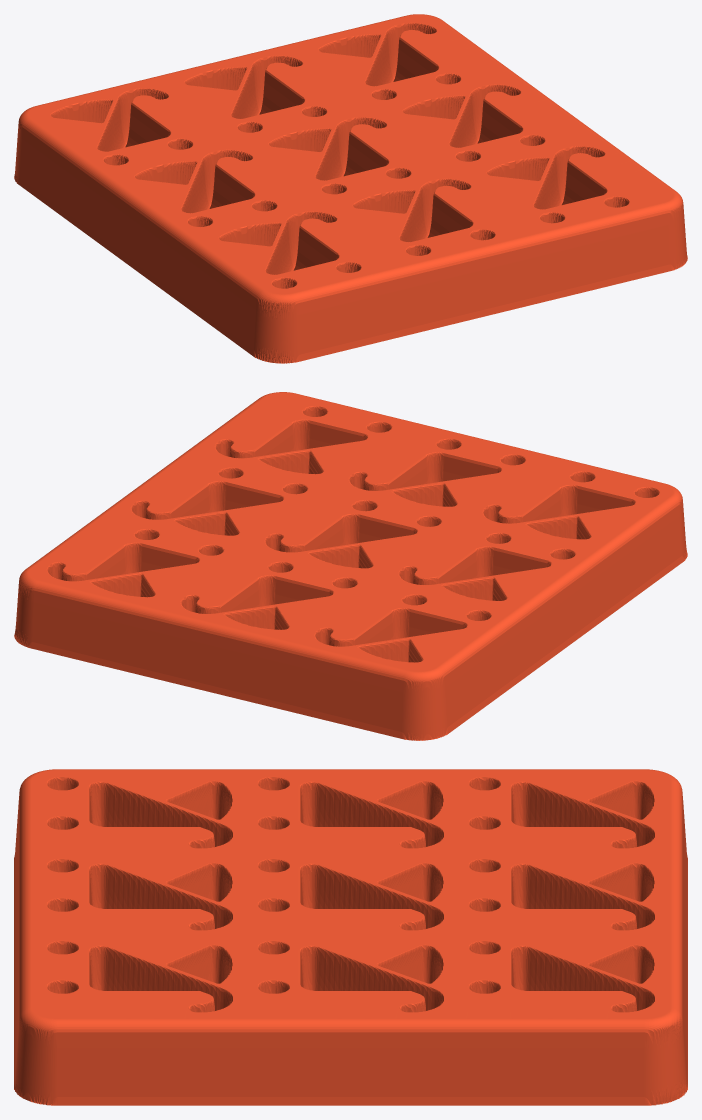
File: mold.glb
3 renders of one model, top to bottom at view 1: azimuth 30°, elevation 25°; view 2: azimuth 150°, elevation 25°; view 3: azimuth 270°, elevation 25°, orthographic. The views are drawn at different scales.
Parts seen in each view (by area): view 1: geometry_0; view 2: geometry_0; view 3: geometry_0.
Part boxes in pixels (box(x1,y1,x2,y2)): geometry_0: box(14, 14, 687, 363); geometry_0: box(14, 392, 687, 740); geometry_0: box(14, 769, 687, 1105).
Size of the model in its own units: 0.1295 by 0.0182 by 0.1402.
